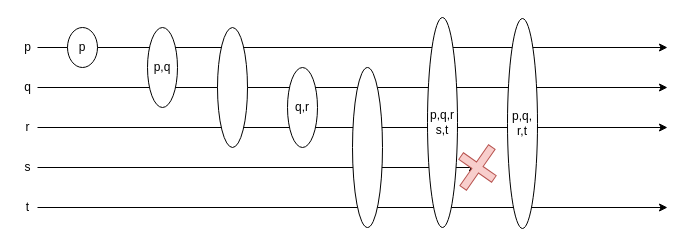
This 693x246 diagram has some shape labels left out. Each missing label, with the centre of its shape:
"p,q, r" belongs at (232,87).
"q,r s,t" belongs at (367,147).
